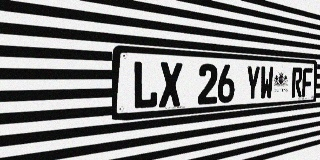2: (198, 63, 218, 105)
6: (217, 64, 235, 103)
F: (302, 68, 312, 97)
L: (132, 60, 158, 110)
R: (291, 67, 303, 98)
W: (260, 66, 274, 100)
X: (159, 62, 182, 108)
Y: (245, 65, 260, 101)
